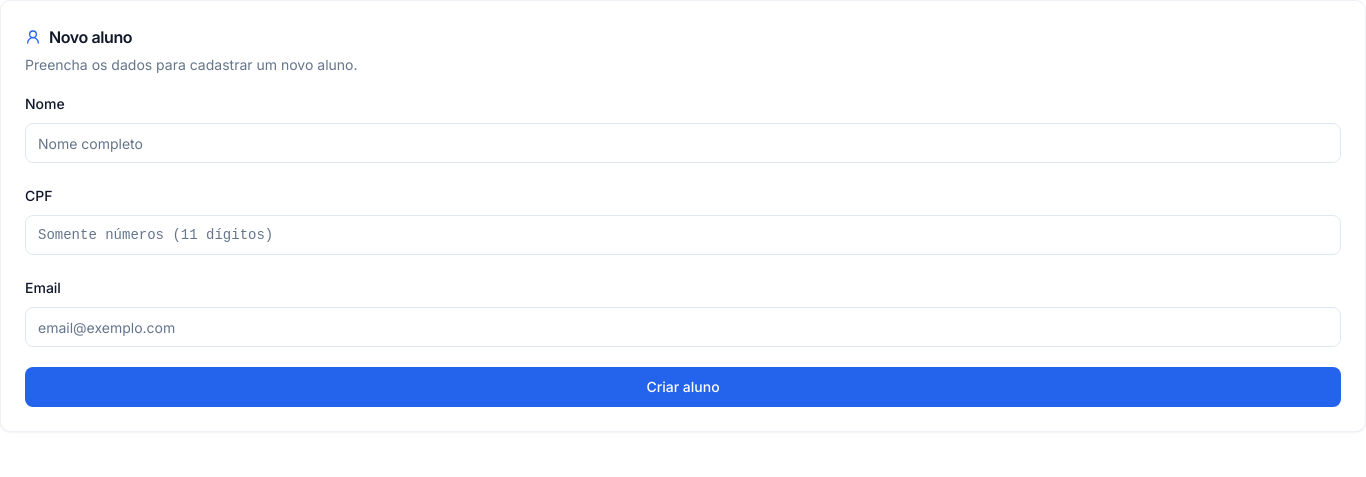
Scenario: AlunoForm › shows validation error for invalid email
Type "João" into the field labelled "Nome" at (683, 143), box 25,123 -> 1341,163
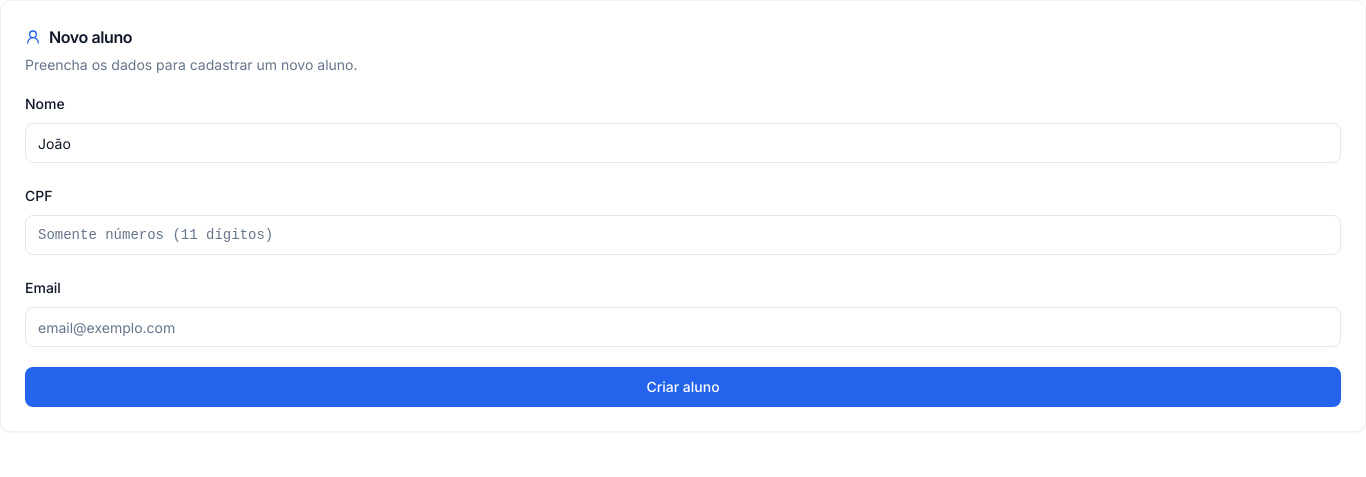
Type "12345678901" into the field labelled "CPF" at (683, 235), box 25,215 -> 1341,255
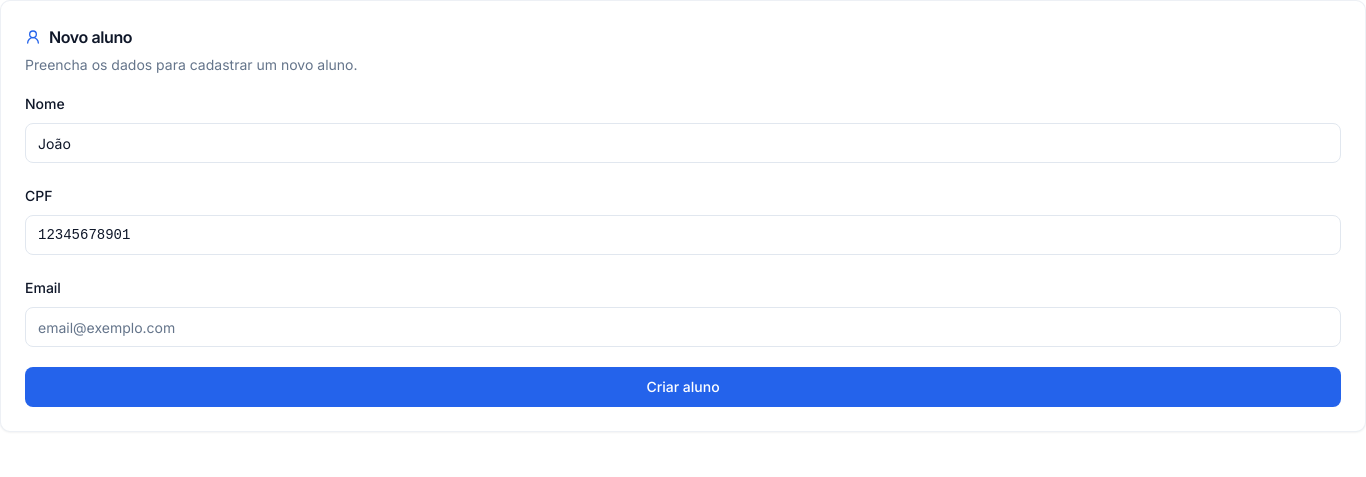
Type "not-an-email" into the field labelled "Email" at (683, 327), box 25,307 -> 1341,347
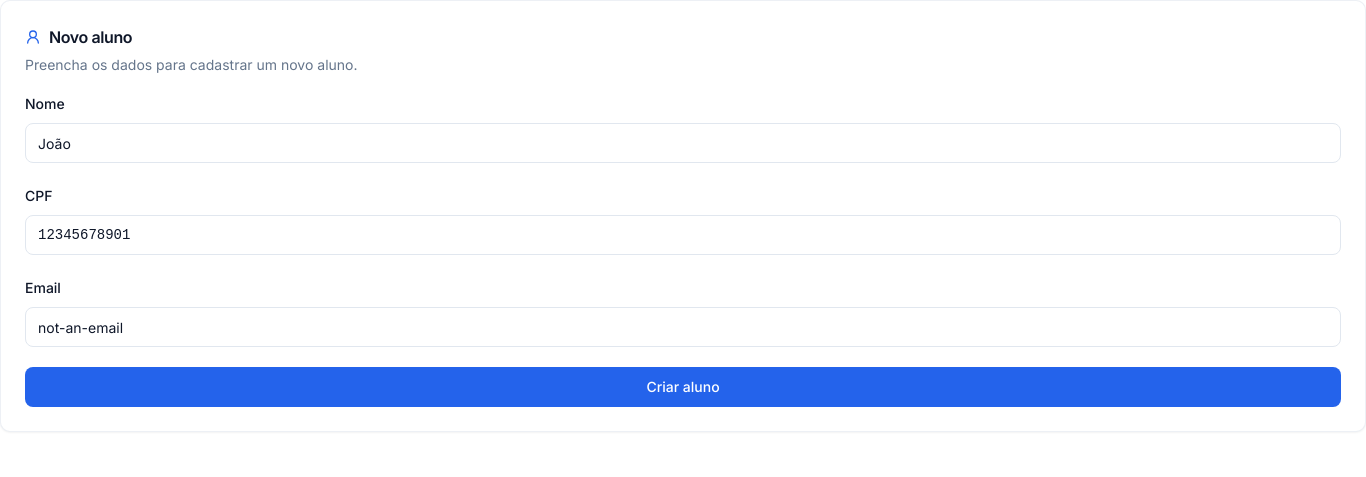
Submit the form
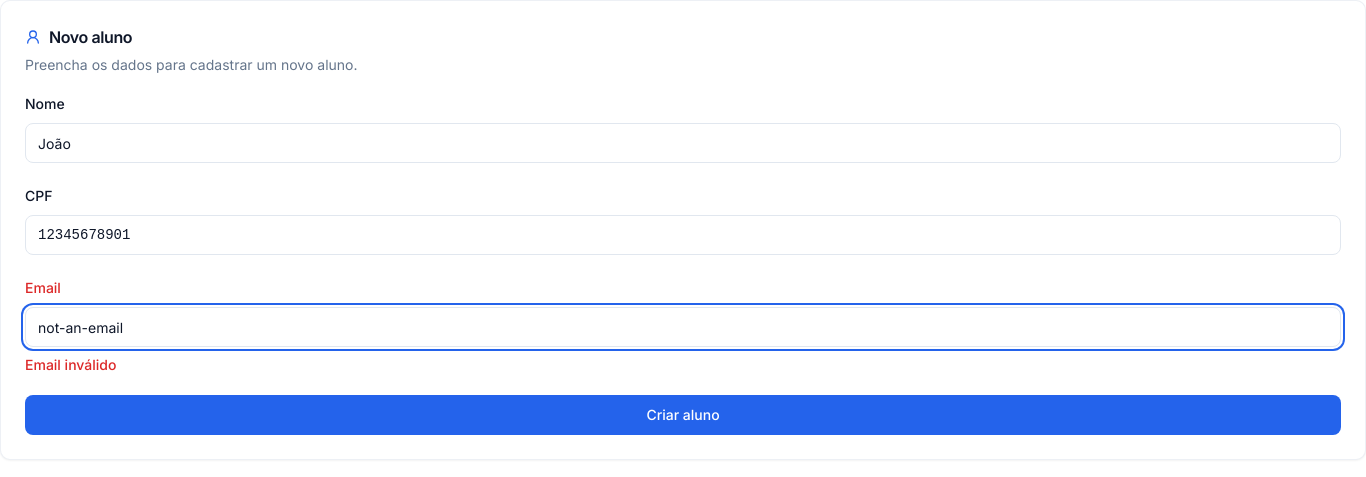
Result: the text "Email inválido" is shown at 25,356 -> 116,373
